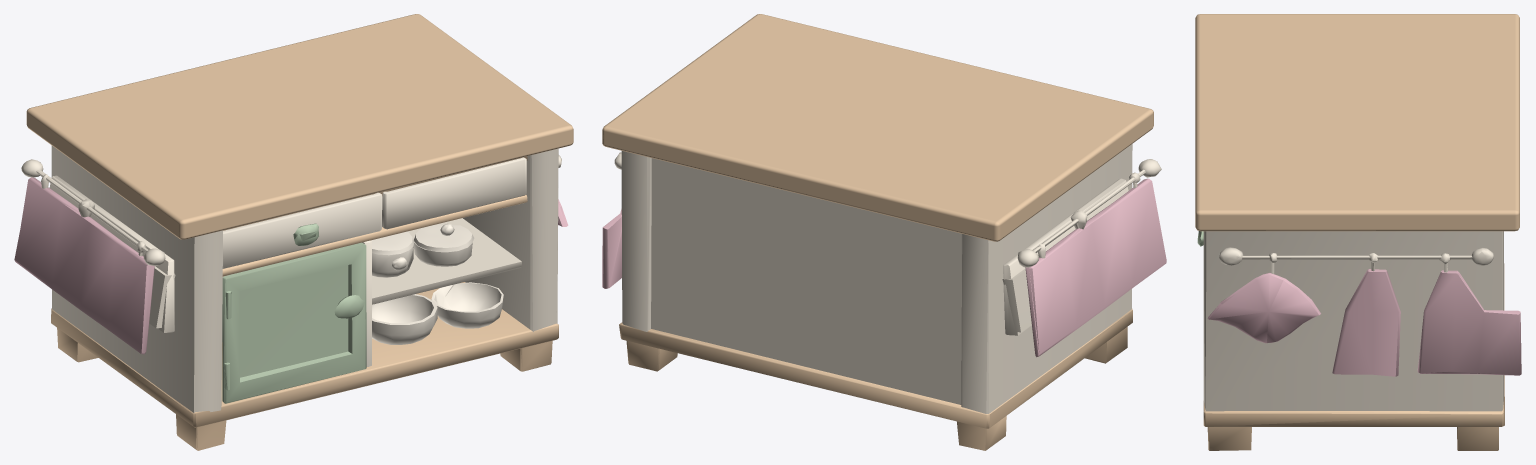
Rendered from kitchen_island.glb.
3 renders of one model, left to right at view 1: azimuth 30°, elevation 25°; view 2: azimuth 150°, elevation 25°; view 3: azimuth 270°, elevation 25°, orthographic. The views are drawn at different scales.
Bounding box in the file's own units: 2.24 × 1.22 × 1.45.
